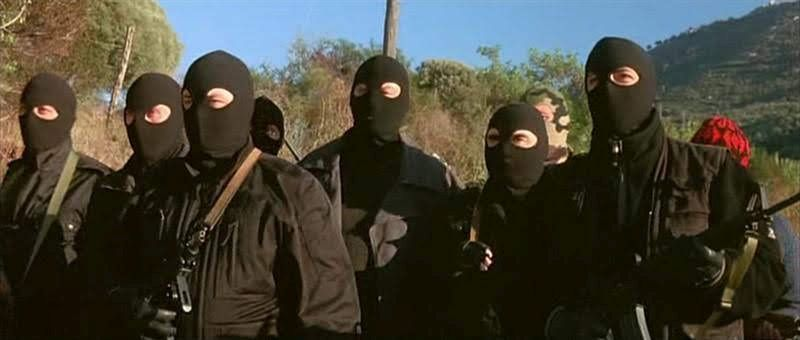gun: (596, 174, 800, 303), (115, 213, 226, 314)
